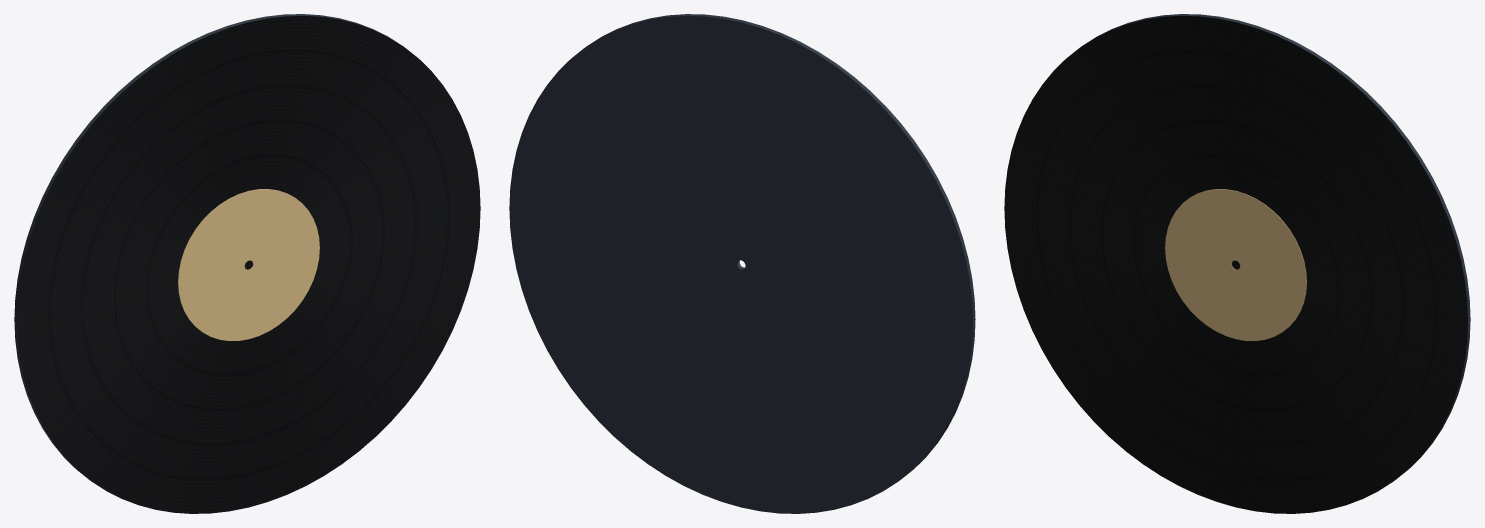
The model's file is record.glb.
3 views of the same model, side by side, from view 1: azimuth 30°, elevation 25°; view 2: azimuth 150°, elevation 25°; view 3: azimuth 330°, elevation 25° (orthographic).
Visible parts, largest first — view 1: pressed vinyl grooves, ochre paper, rubber; view 2: rubber; view 3: pressed vinyl grooves, ochre paper, rubber.
Boxes of the visible parts, left/top/right/bottom form: pressed vinyl grooves: left=17, top=16, right=480, bottom=513; ochre paper: left=178, top=189, right=319, bottom=340; rubber: left=14, top=14, right=403, bottom=479; rubber: left=509, top=14, right=975, bottom=513; pressed vinyl grooves: left=1004, top=16, right=1467, bottom=513; ochre paper: left=1165, top=189, right=1306, bottom=340; rubber: left=1081, top=14, right=1470, bottom=479.
Bounding box in the file's own units: 216 × 216 × 2.3.
3 materials, 1 textured.
